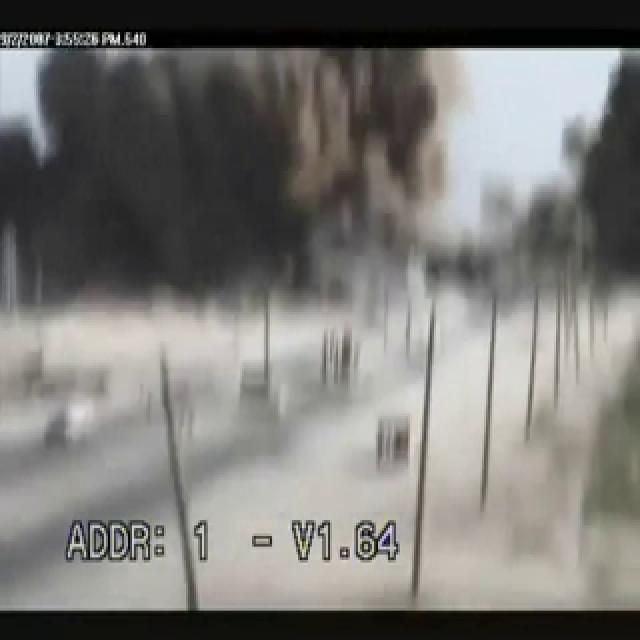explosion: (250, 191, 504, 537)
